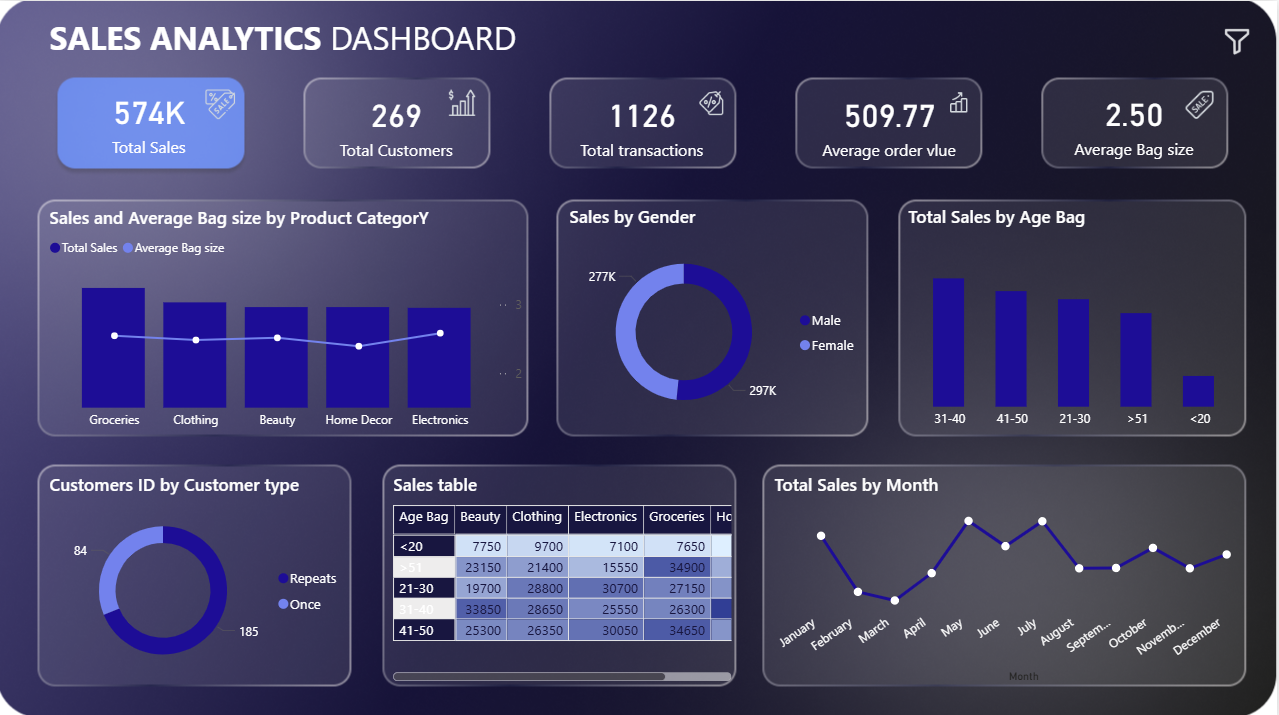

Layout of this report page (visuals, bound fields, positions):
{"tool":"powerbi","page":{"name":"Page 1","canvas":[1280,720],"ordinal":0},"visuals":[{"type":"card","fields":{"Values":["measure.Total Sales"]},"box":[60.4,74.1,183.9,93.3],"z":0},{"type":"card","fields":{"Values":["measure.Total Customers"]},"box":[306.2,78.1,186.2,89.4],"z":1000},{"type":"card","fields":{"Values":["measure.Total transactions"]},"box":[551.9,78.1,185,89.4],"z":2000},{"type":"card","fields":{"Values":["measure.Average order vlue"]},"box":[798.8,78.1,186.9,89.4],"z":3000},{"type":"card","fields":{"Values":["measure.Average Bag size"]},"box":[1045,77.5,184.4,90],"z":4000},{"type":"lineClusteredColumnComboChart","title":"Sales and Average Bag size by Product CategorY","fields":{"Category":["retail_sales.Product Category"],"Y":["measure.Total Sales"],"Y2":["measure.Average Bag size"]},"box":[47.5,204.4,483.1,231.9],"z":5000},{"type":"donutChart","title":"Sales by Gender","fields":{"Y":["measure.Total Sales"],"Category":["retail_sales.Gender"]},"box":[567.1,204.1,304.1,232.4],"z":6000},{"type":"columnChart","fields":{"Category":["retail_sales.Age Bag"],"Y":["measure.Total Sales"]},"box":[905.7,204.3,343.6,232.1],"z":7000},{"type":"donutChart","title":"Customers ID by Customer type","fields":{"Category":["Customer type.Customer type"],"Y":["CountNonNull(Customer type.Customer ID)"]},"box":[47.9,471.4,306.4,214.3],"z":8000},{"type":"pivotTable","title":"Sales table","fields":{"Rows":["retail_sales.Age Bag"],"Columns":["retail_sales.Product Category"],"Values":["measure.Total Sales"]},"box":[391.7,471.7,348.3,214.2],"z":9000},{"type":"lineChart","fields":{"Y":["measure.Total Sales"],"Category":["retail_sales.Date.Variation.Date Hierarchy.Month"]},"box":[772.1,471.4,477.1,215],"z":10000},{"type":"image","title":"open-slicer","box":[1221.1,21.1,37.8,37.8],"z":11000},{"type":"textbox","box":[47.8,10,551.1,64.4],"z":12001},{"type":"image","box":[201.3,83.3,43.3,39.3],"z":12002},{"type":"image","box":[697.3,83.3,34,36],"z":12003},{"type":"image","box":[943.3,84.7,36.7,33.3],"z":12004},{"type":"image","box":[1183.3,84.7,38,38],"z":12005},{"type":"image","box":[446.7,83.3,37.3,36],"z":12006}]}

Visuals, with their boxes in screenshot pixels (x1, y1, x2, y2), scaled from the page's 1280x720 canvas onto the 1279x715 screenshot:
card - measure.Total Sales: (x1=60, y1=74, x2=244, y2=166)
card - measure.Total Customers: (x1=306, y1=78, x2=492, y2=166)
card - measure.Total transactions: (x1=551, y1=78, x2=736, y2=166)
card - measure.Average order vlue: (x1=798, y1=78, x2=985, y2=166)
card - measure.Average Bag size: (x1=1044, y1=77, x2=1228, y2=166)
"Sales and Average Bag size by Product CategorY" lineClusteredColumnComboChart: (x1=47, y1=203, x2=530, y2=433)
"Sales by Gender" donutChart: (x1=567, y1=203, x2=871, y2=433)
columnChart - retail_sales.Age Bag x measure.Total Sales: (x1=905, y1=203, x2=1248, y2=433)
"Customers ID by Customer type" donutChart: (x1=48, y1=468, x2=354, y2=681)
"Sales table" pivotTable: (x1=391, y1=468, x2=739, y2=681)
lineChart - measure.Total Sales x retail_sales.Date.Variation.Date Hierarchy.Month: (x1=771, y1=468, x2=1248, y2=682)
"open-slicer" image: (x1=1220, y1=21, x2=1258, y2=58)
textbox: (x1=48, y1=10, x2=598, y2=74)
image: (x1=201, y1=83, x2=244, y2=122)
image: (x1=697, y1=83, x2=731, y2=118)
image: (x1=943, y1=84, x2=979, y2=117)
image: (x1=1182, y1=84, x2=1220, y2=122)
image: (x1=446, y1=83, x2=484, y2=118)
